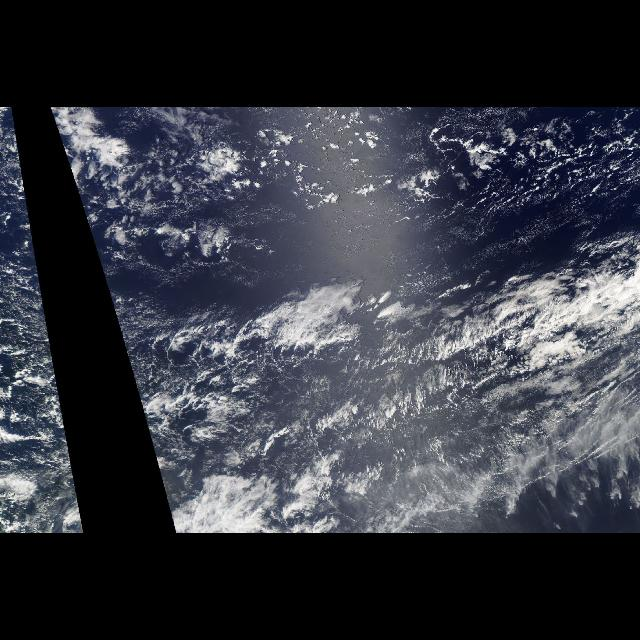Gravel: (134, 284, 360, 456), (348, 118, 630, 215)
